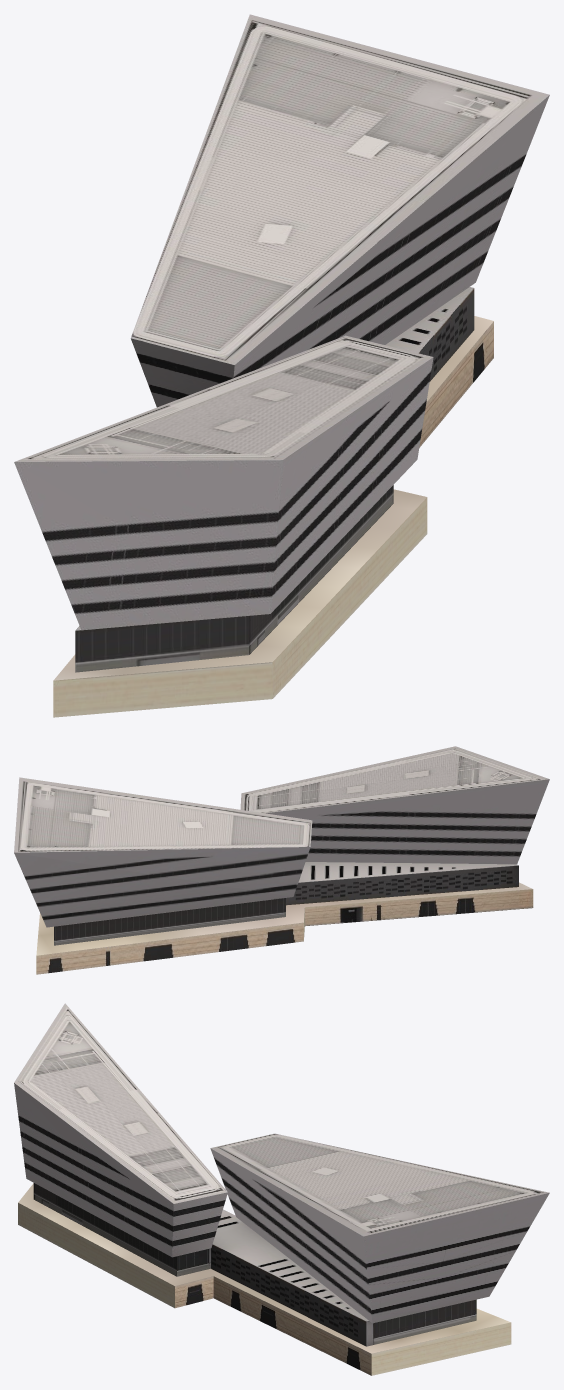
The picture shows the model from 3 angles, top to bottom: view 1: azimuth 30°, elevation 25°; view 2: azimuth 150°, elevation 25°; view 3: azimuth 270°, elevation 25°; orthographic projection. The views are drawn at different scales.
Parts seen in each view (by area): view 1: 402; view 2: 402; view 3: 402.
Boxes of the visible parts, x1,y1,x2,y2 form: 402: (14, 14, 549, 717); 402: (14, 746, 549, 974); 402: (14, 1003, 549, 1375).
Bounding box in the file's own units: 111 × 35.5 × 110.
1 material, 1 textured.
